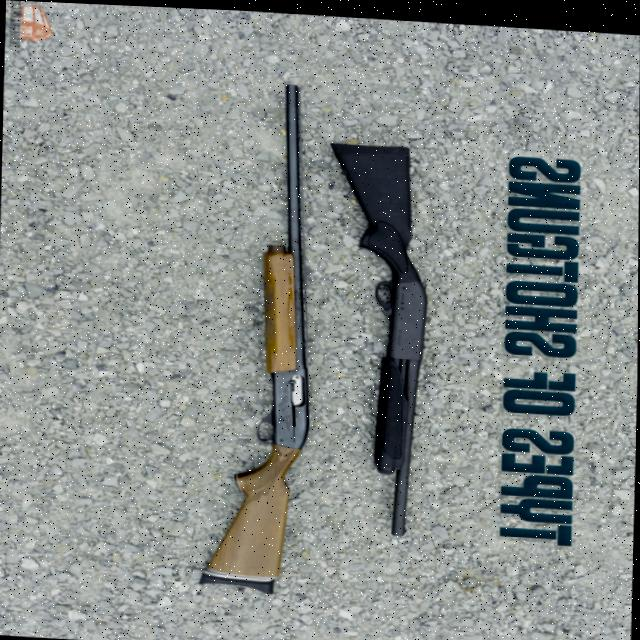firearm: (197, 73, 321, 596), (319, 135, 435, 533)
